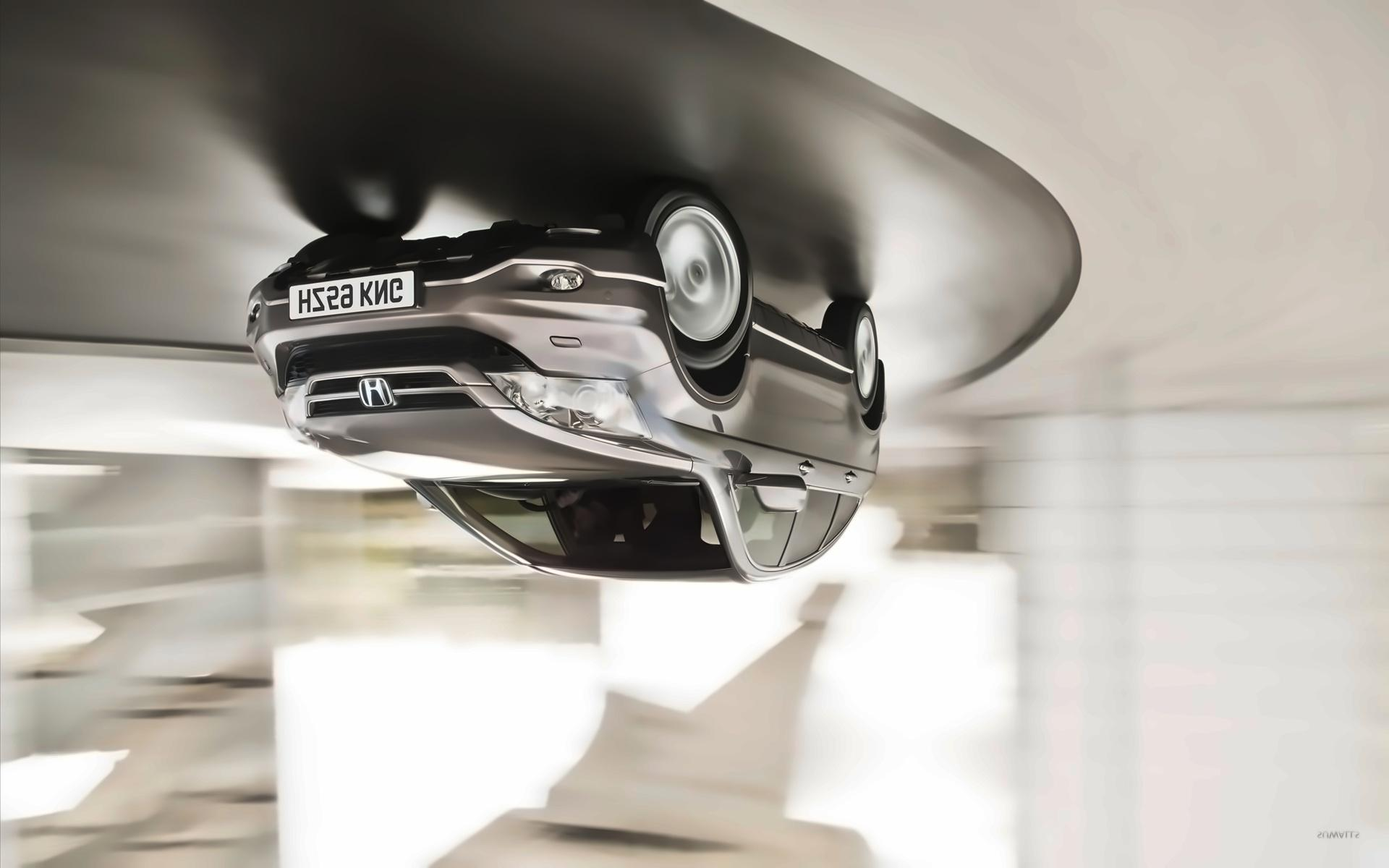Car hood: (294, 407, 693, 488)
Driver-s door - -F-R-: (732, 338, 813, 586)
Fender - -F-R-: (625, 285, 755, 491)
Front bumper: (241, 211, 683, 368)
Headlight - -L-: (278, 375, 331, 450)
Headlight - -R-: (479, 365, 661, 448)
Passenger-s door - -R-R-: (795, 338, 863, 587)
Side bumper - -R-: (742, 290, 863, 384)
Side mirror - -L-: (407, 479, 441, 517)
Side mirror - -R-: (733, 461, 812, 520)
